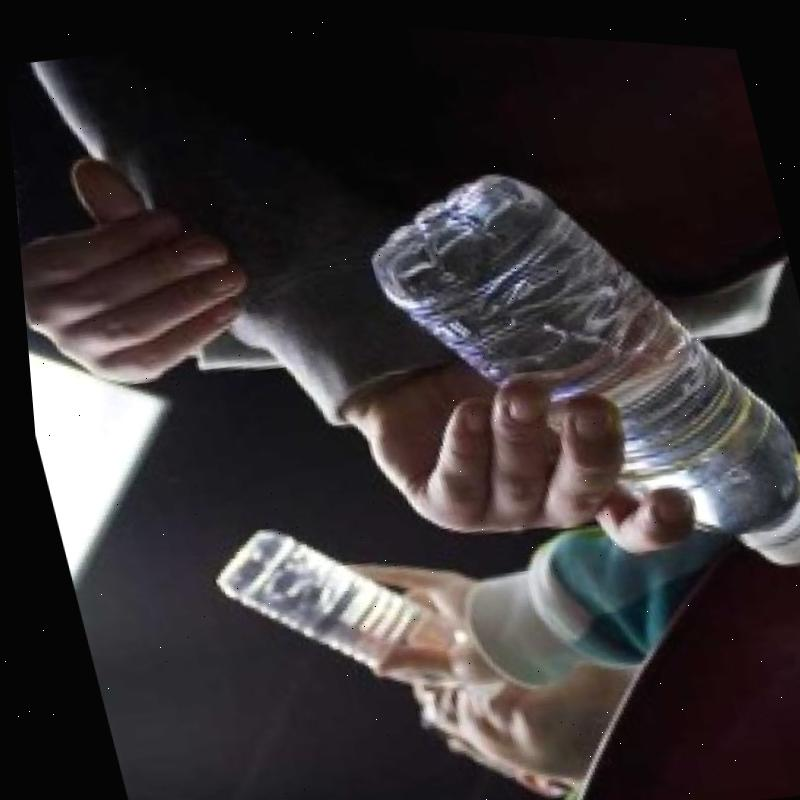botella: (339, 110, 800, 617), (189, 488, 481, 725)
